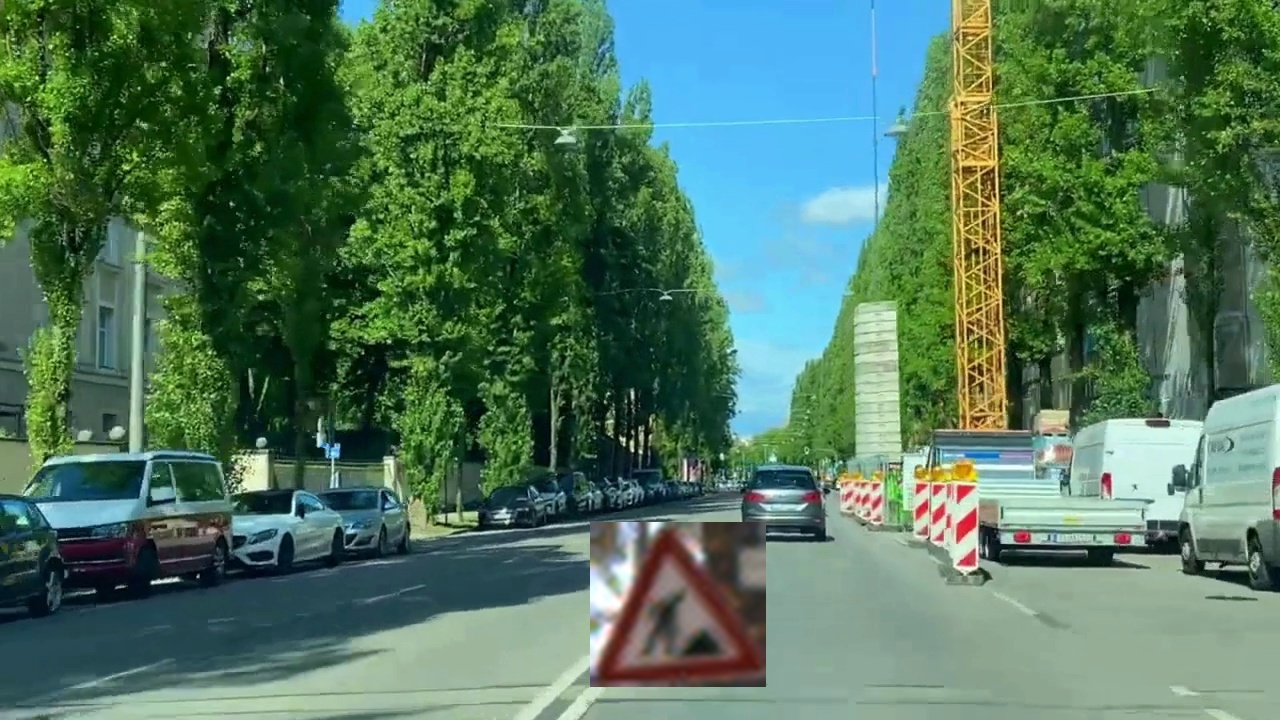Road work: (590, 522, 766, 687)
